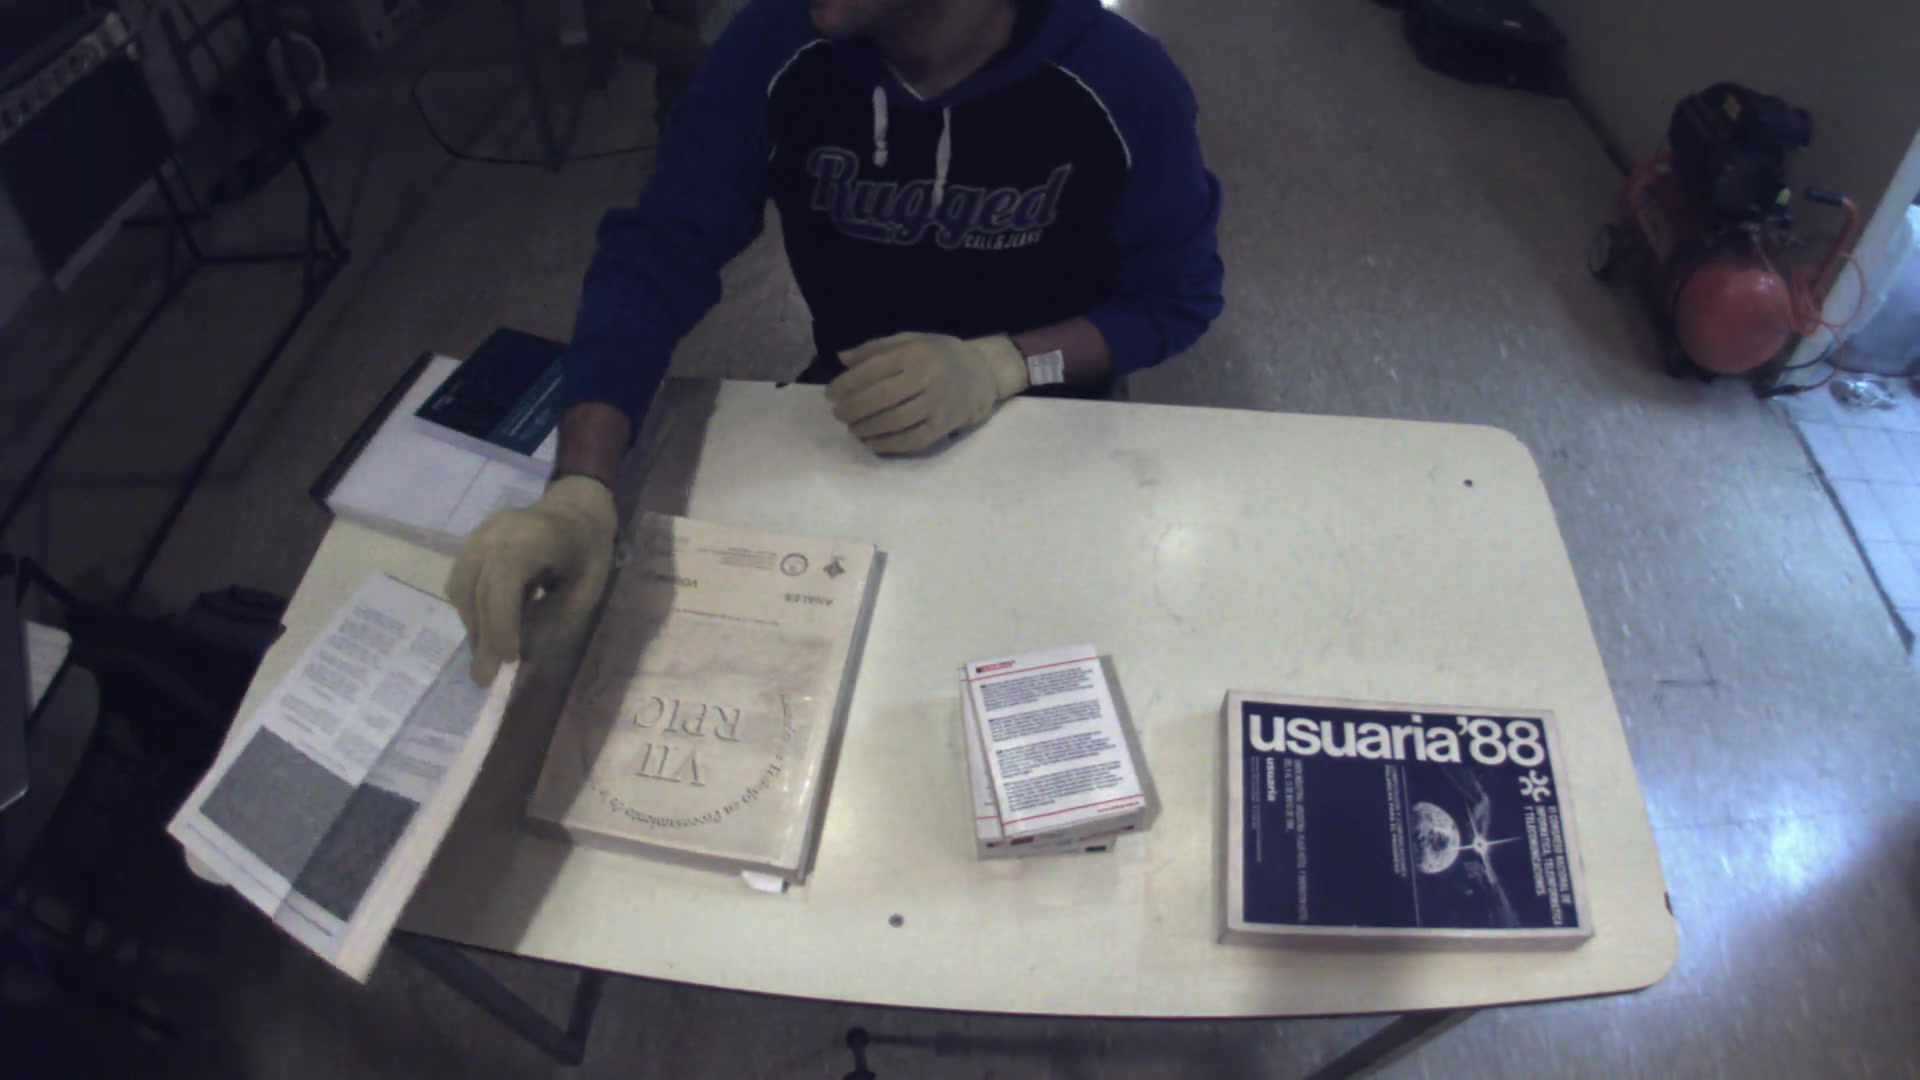hand: (429, 469, 616, 676), (824, 306, 1040, 458)
